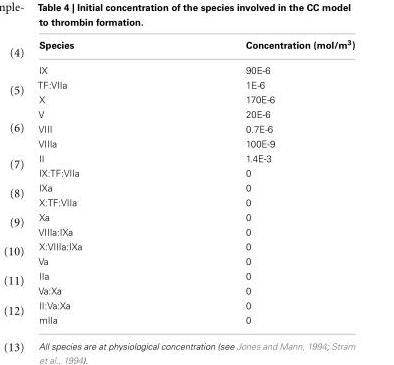table: (37, 37, 354, 325)
table column: (163, 37, 354, 325), (37, 37, 163, 325)
table column header: (37, 37, 354, 56)
table row: (37, 56, 354, 76), (37, 37, 354, 56), (37, 76, 354, 91), (37, 91, 354, 106), (37, 106, 354, 121), (37, 135, 354, 150), (37, 150, 354, 165), (37, 179, 354, 194), (37, 194, 354, 209), (37, 223, 354, 238), (37, 238, 354, 253), (37, 267, 354, 282), (37, 282, 354, 297), (37, 297, 354, 312), (37, 121, 354, 135), (37, 165, 354, 179), (37, 209, 354, 223), (37, 253, 354, 267), (37, 312, 354, 325)
